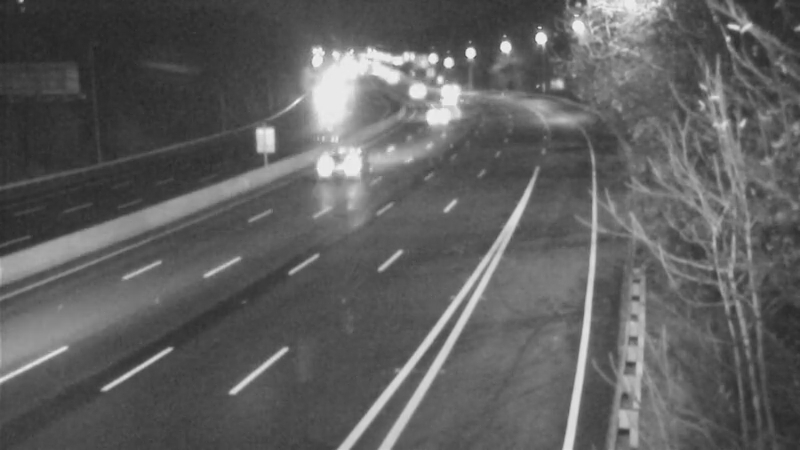vehicle: (292, 126, 372, 206), (392, 66, 442, 116), (422, 63, 472, 113), (424, 77, 474, 127), (411, 94, 461, 144), (303, 85, 353, 135)
